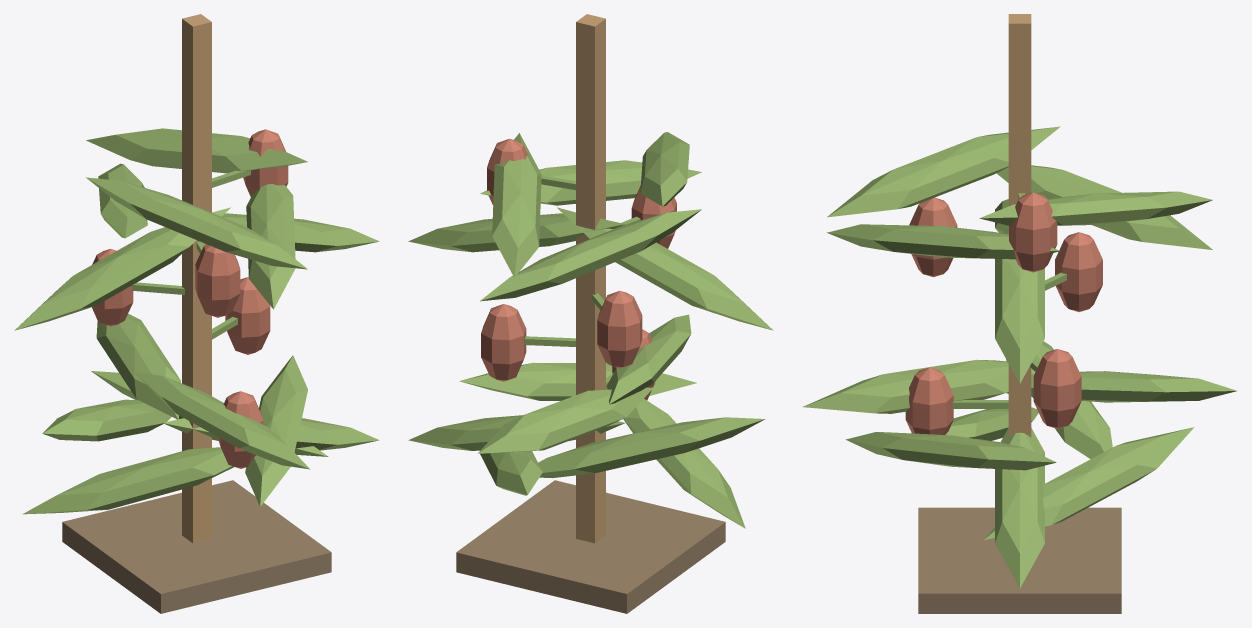
File: cozy-farm-and-homestead-bell-pepper-mature-661caecb__19395.glb
3 renders of one model, left to right at view 1: azimuth 30°, elevation 25°; view 2: azimuth 150°, elevation 25°; view 3: azimuth 270°, elevation 25°, orthographic. The views are drawn at different scales.
Visible parts, largest first — view 1: bell-pepper-mature; view 2: bell-pepper-mature; view 3: bell-pepper-mature.
Boxes of the visible parts, x1,y1,x2,y2 form: bell-pepper-mature: (14,14,379,613); bell-pepper-mature: (408,14,773,613); bell-pepper-mature: (803,14,1236,613).
Bounding box in the file's own units: 0.9632 × 1.35 × 0.9652.
